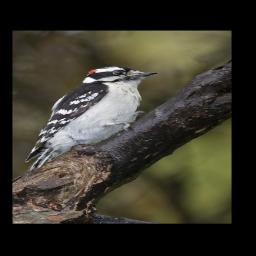Woodpecker: (26, 66, 161, 174)
